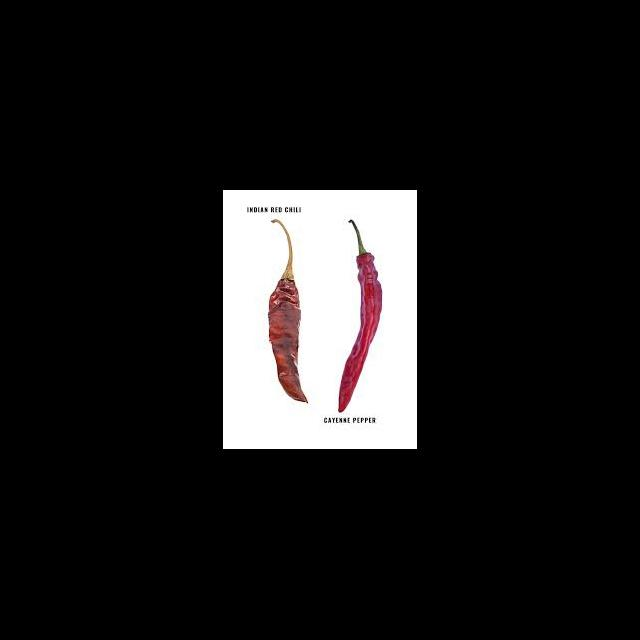chili_pepper: (336, 223, 383, 414), (267, 218, 301, 414)
